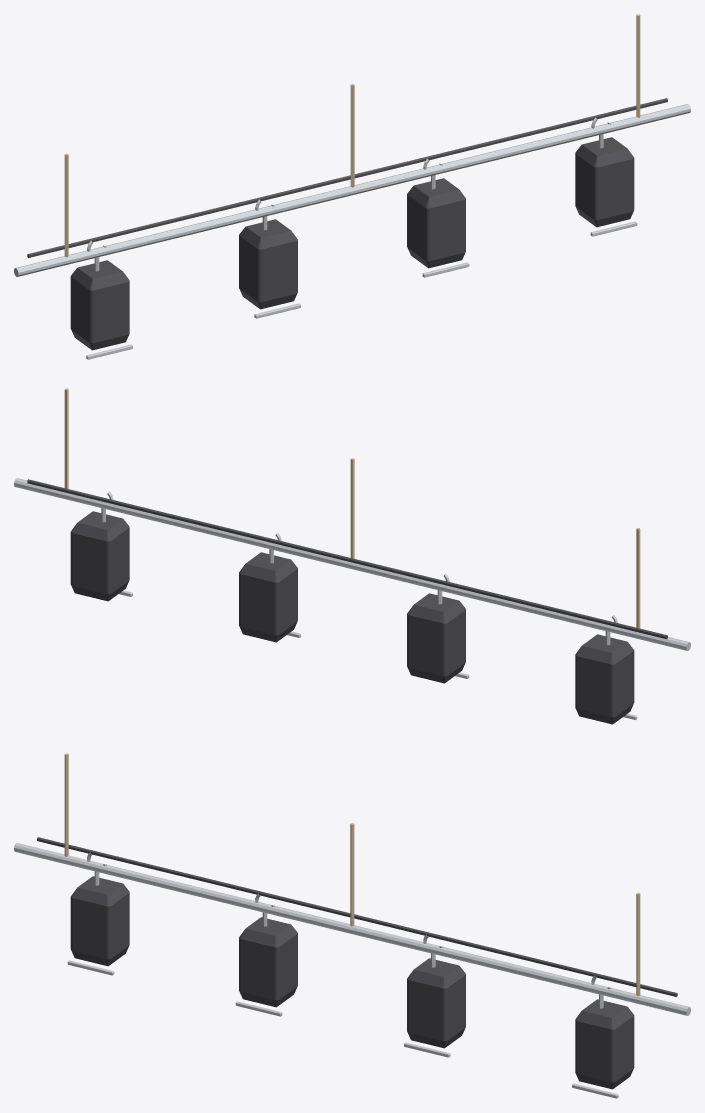
File: theatre-stage-and-backstage-lighting-bar-with-lanterns-4450efe2__35907.glb
3 views of the same model, one above another, from view 1: azimuth 30°, elevation 25°; view 2: azimuth 150°, elevation 25°; view 3: azimuth 330°, elevation 25° (orthographic).
Visible parts, largest first — view 1: lighting-bar-with-lanterns; view 2: lighting-bar-with-lanterns; view 3: lighting-bar-with-lanterns.
Part boxes in pixels (bbox=[...]): lighting-bar-with-lanterns: bbox=[14, 14, 690, 359]; lighting-bar-with-lanterns: bbox=[14, 388, 690, 724]; lighting-bar-with-lanterns: bbox=[14, 753, 690, 1098].
Size of the model in its own units: 4 by 1.14 by 0.2208.
